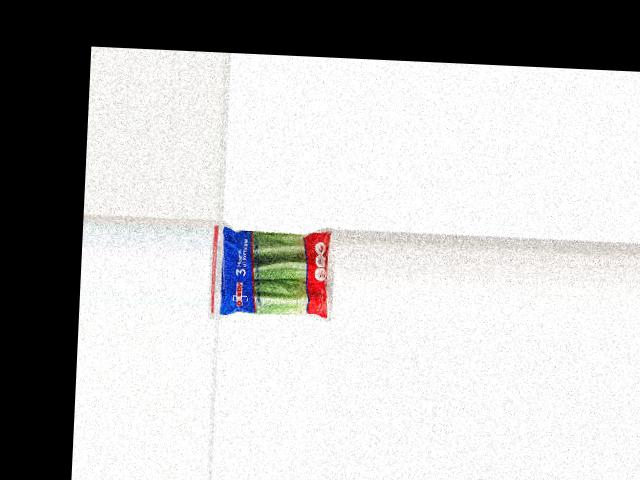lettuce: (216, 224, 336, 320)
